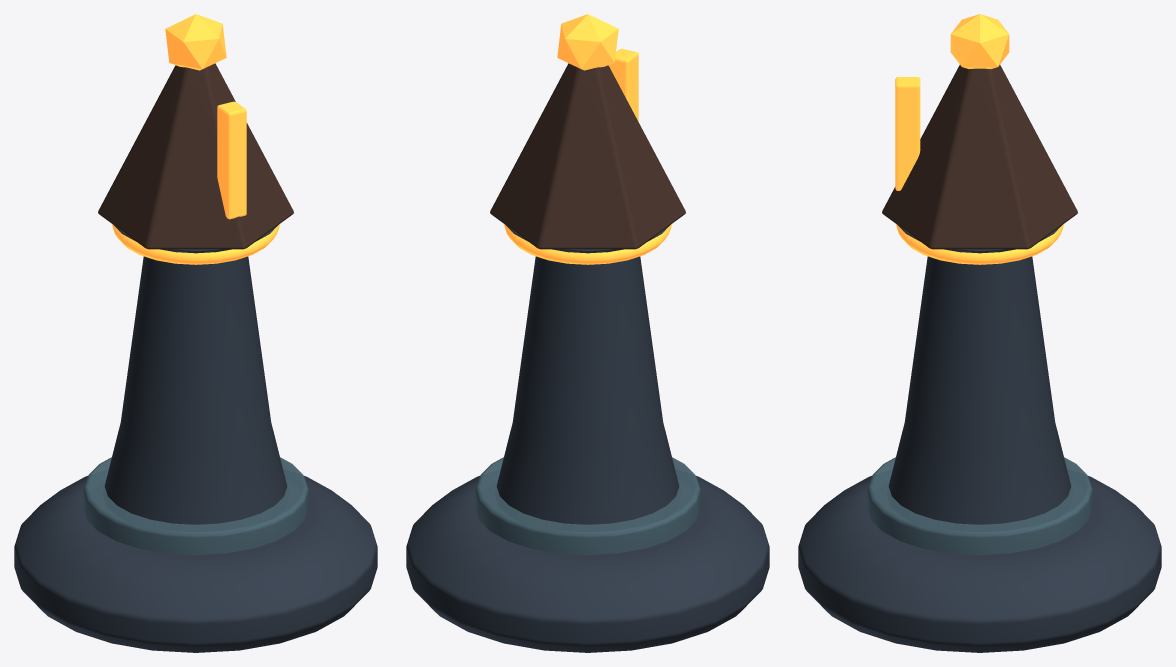
The picture shows the model from 3 angles, left to right: view 1: azimuth 30°, elevation 25°; view 2: azimuth 150°, elevation 25°; view 3: azimuth 270°, elevation 25°; orthographic projection.
Visible parts, largest first — view 1: SciFi_b_b; view 2: SciFi_b_b; view 3: SciFi_b_b.
Boxes of the visible parts, x1,y1,x2,y2 form: SciFi_b_b: [14, 14, 377, 652]; SciFi_b_b: [406, 14, 769, 652]; SciFi_b_b: [798, 14, 1161, 652].
Size of the model in its own units: 0.58 by 1 by 0.58.
